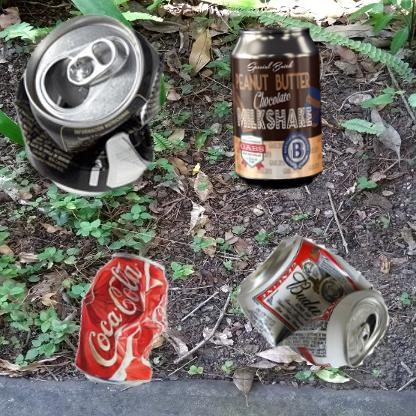lata: (10, 213, 245, 416), (213, 213, 416, 382), (10, 10, 172, 203), (213, 10, 341, 209)
